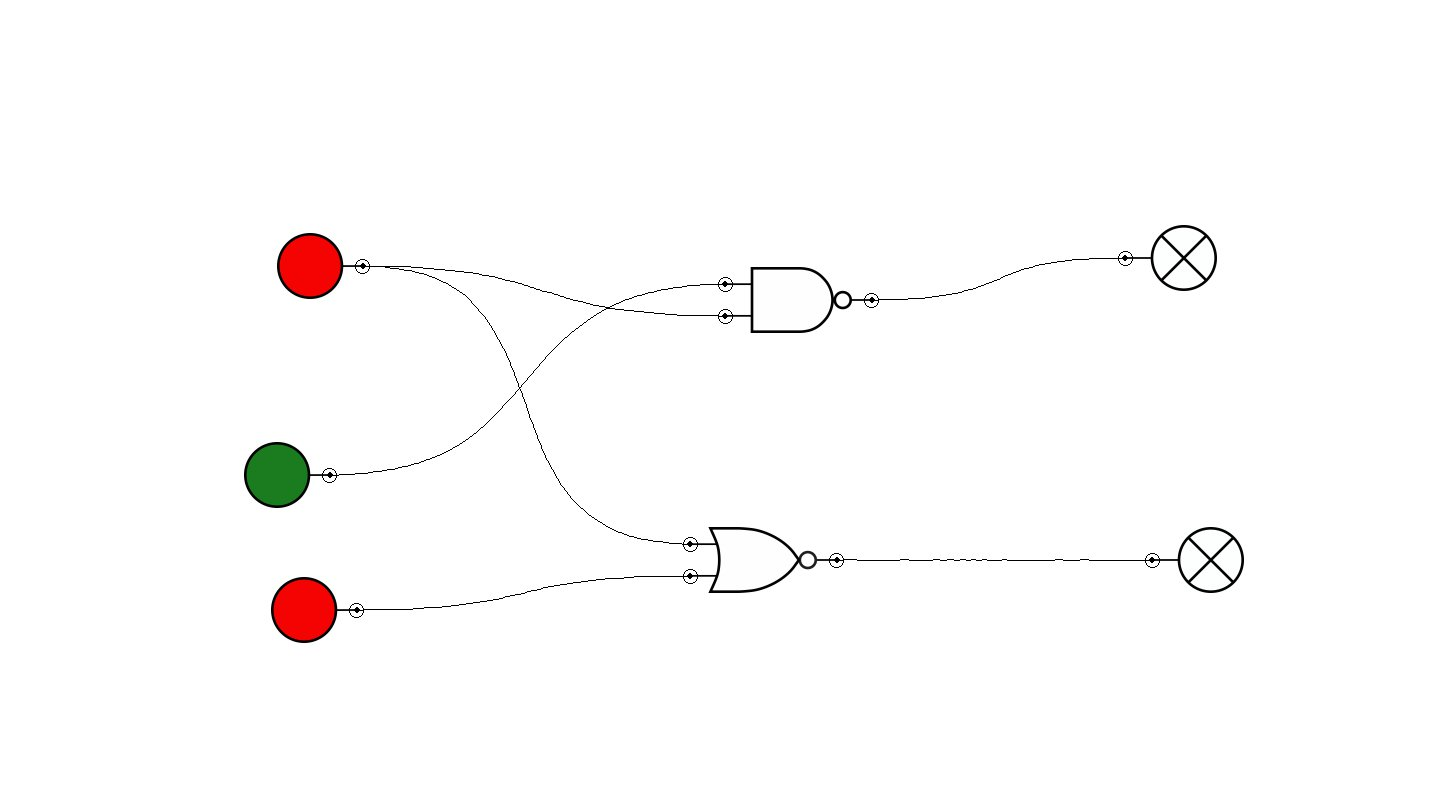bulb: (1145, 527, 1244, 593), (1118, 225, 1217, 291)
nand: (718, 267, 879, 333)
nor: (683, 527, 844, 593)
switch_False: (277, 233, 370, 299), (271, 577, 364, 643)
switch_True: (244, 442, 337, 508)
